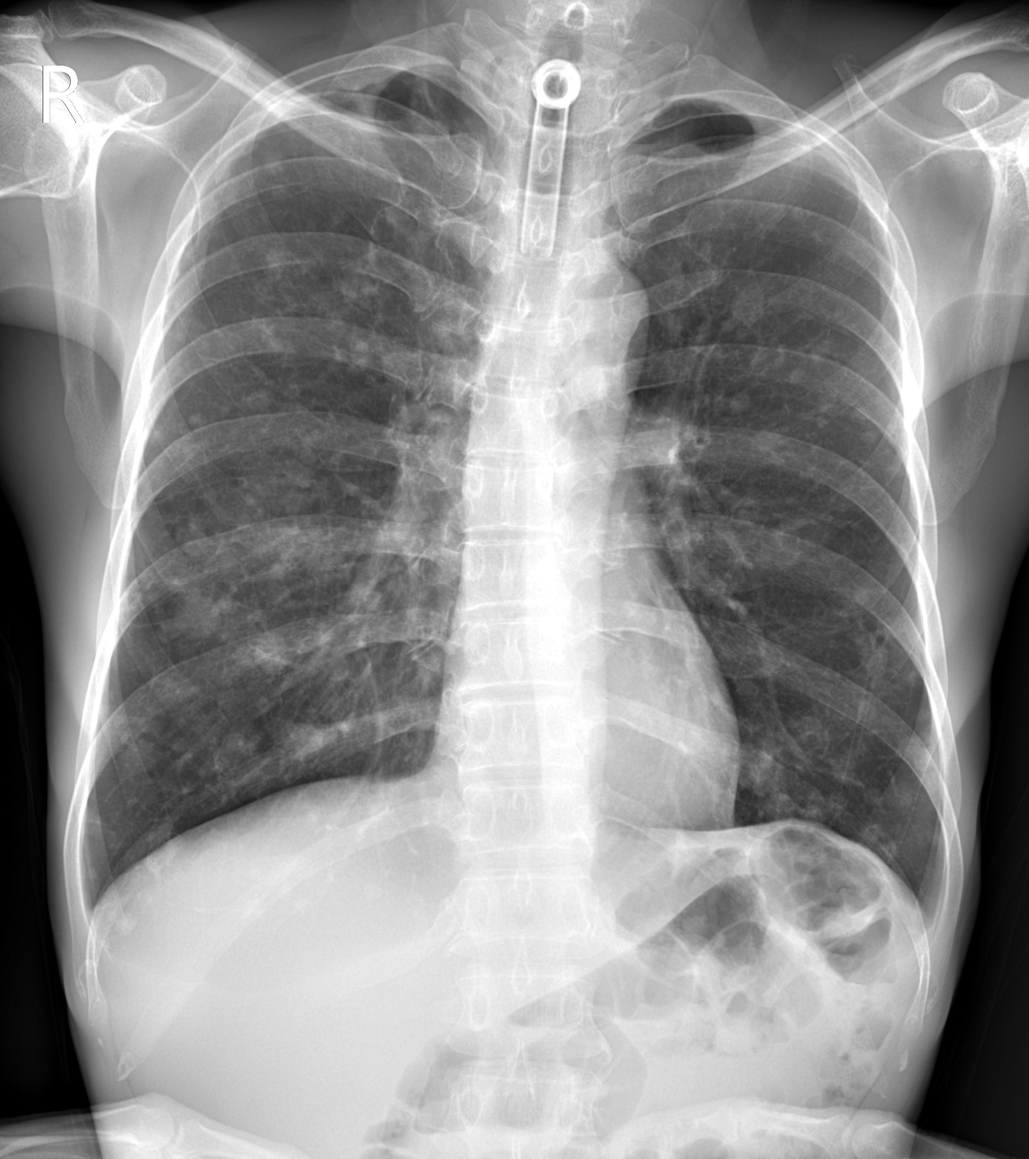Pleural thickening: (69, 893, 110, 929)
